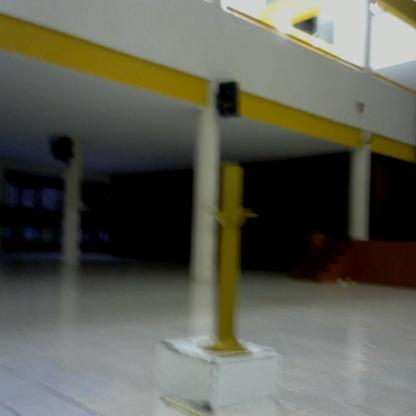pole: (200, 156, 265, 364)
